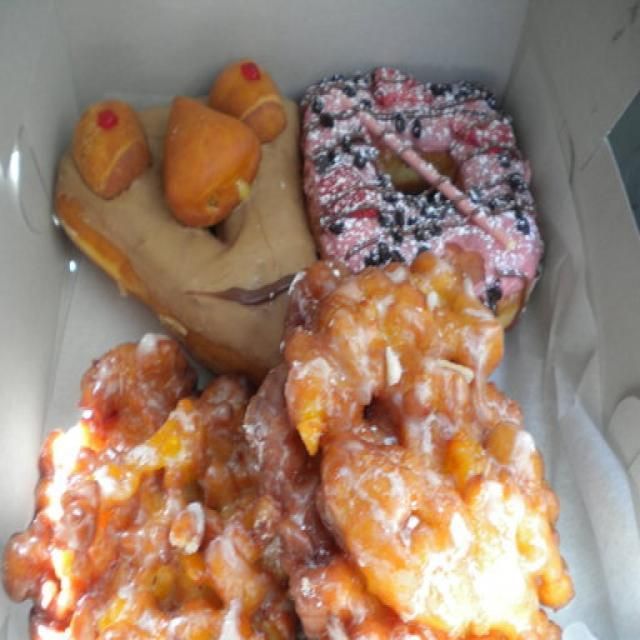Donuts: (23, 50, 584, 640)
